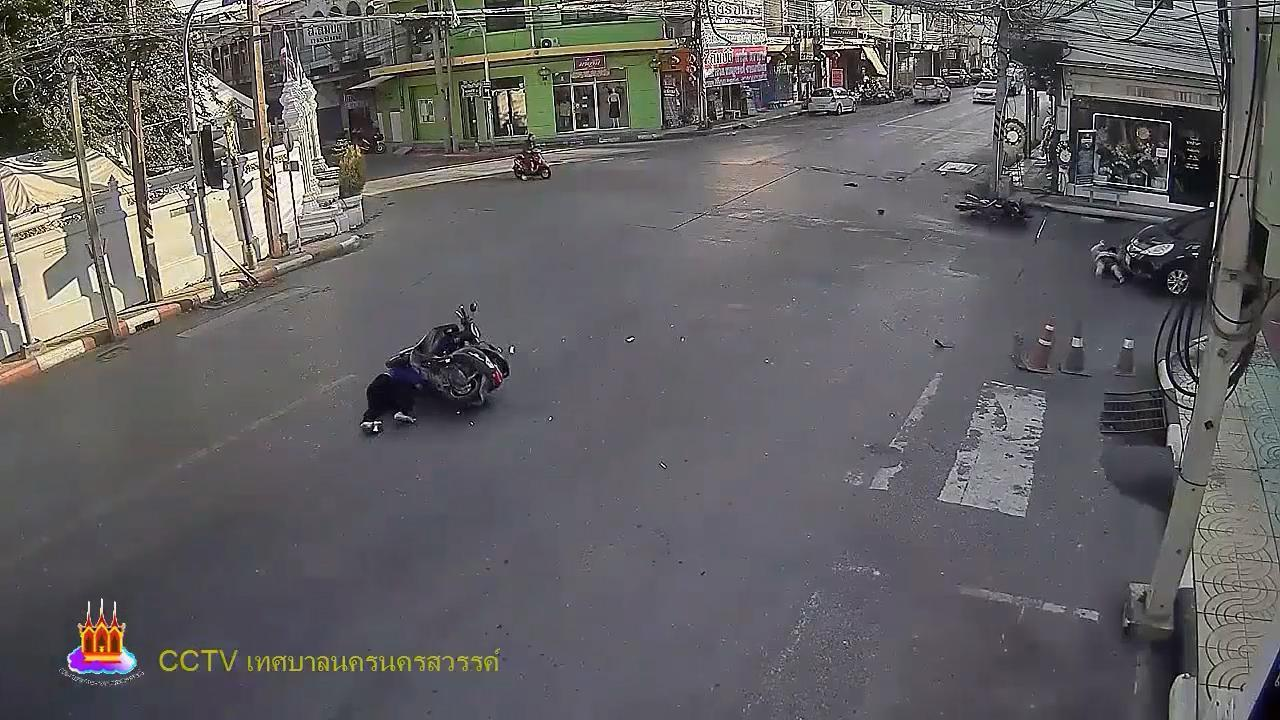accident: (1087, 237, 1126, 288)
